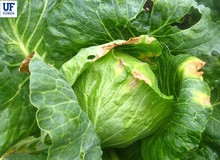damaged_cabbage: (39, 10, 210, 160)
